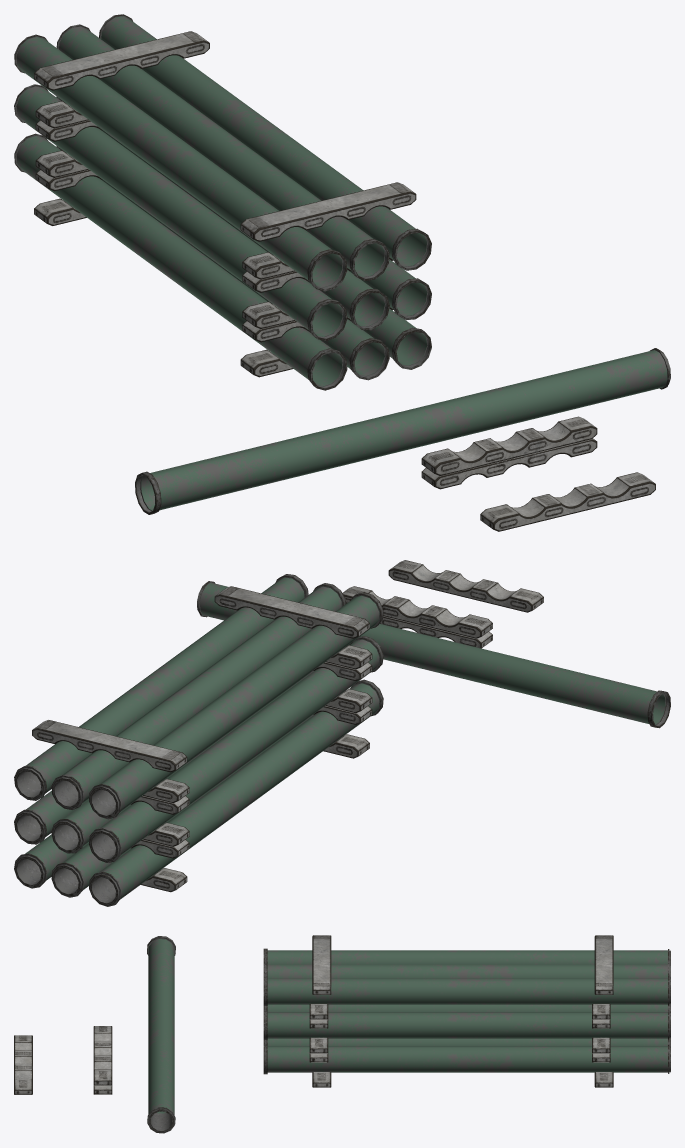
3 views of the same model, one above another, from view 1: azimuth 30°, elevation 25°; view 2: azimuth 150°, elevation 25°; view 3: azimuth 270°, elevation 25° (orthographic). The views are drawn at different scales.
Parts seen in each view (by area): view 1: 01_all_0, 02_all_0, 04_all_0, 03_all_0; view 2: 01_all_0, 02_all_0, 04_all_0, 03_all_0; view 3: 01_all_0, 02_all_0, 04_all_0, 03_all_0.
Part boxes in pixels (x1,y1,x2,y2): 01_all_0: (14,14,431,390); 02_all_0: (135,348,670,514); 04_all_0: (421,416,597,489); 03_all_0: (480,472,655,531); 01_all_0: (14,574,383,906); 02_all_0: (197,581,670,728); 04_all_0: (342,586,492,648); 03_all_0: (388,560,543,612); 01_all_0: (263,935,670,1087); 02_all_0: (147,936,175,1133); 04_all_0: (93,1026,112,1094); 03_all_0: (14,1035,32,1094).
Size of the model in its own units: 3.05 by 0.8406 by 4.92.
Materials: 1 (1 with a texture image).
